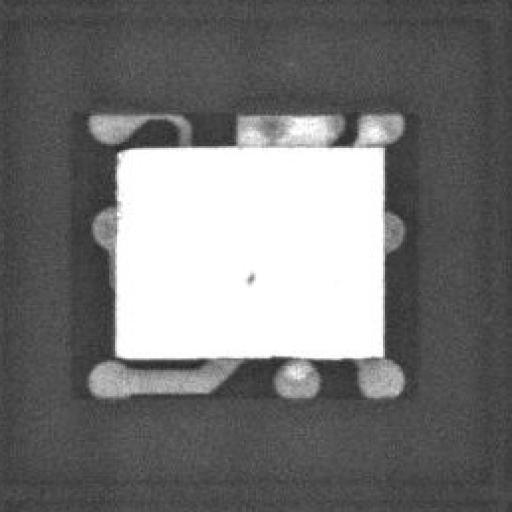DIE_INK: (231, 280, 243, 300)
